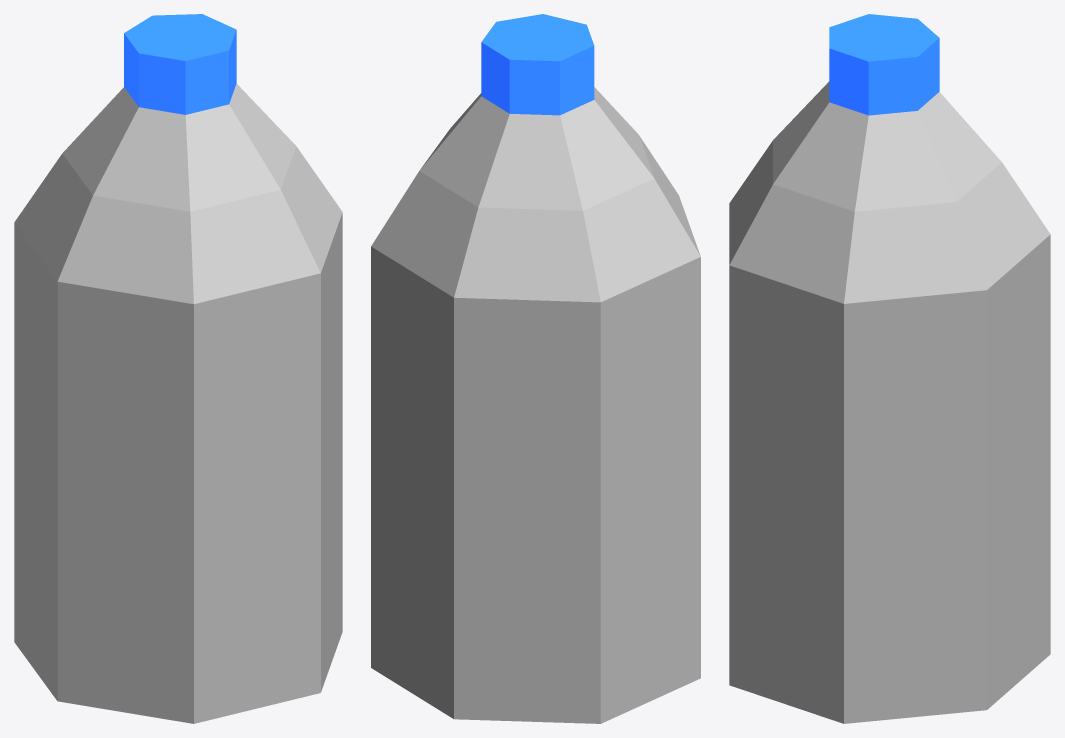
The model's file is Bottle_6.fbx.
3 renders of one model, left to right at view 1: azimuth 30°, elevation 25°; view 2: azimuth 150°, elevation 25°; view 3: azimuth 270°, elevation 25°, orthographic.
Parts seen in each view (by area): view 1: Bottle_6; view 2: Bottle_6; view 3: Bottle_6.
Boxes of the visible parts, x1,y1,x2,y2 form: Bottle_6: [14, 14, 342, 723]; Bottle_6: [371, 14, 700, 723]; Bottle_6: [729, 14, 1050, 723].
Size of the model in its own units: 16.37 by 33.79 by 15.96.
